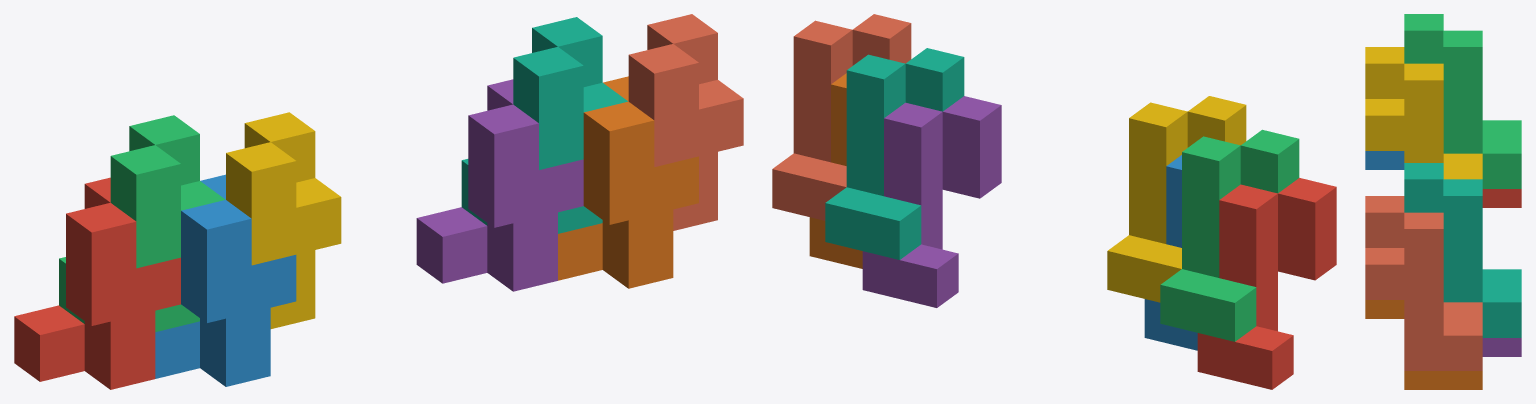
File: tiling.obj
3 renders of one model, left to right at view 1: azimuth 30°, elevation 25°; view 2: azimuth 150°, elevation 25°; view 3: azimuth 270°, elevation 25°, orthographic. The views are drawn at different scales.
Parts seen in each view (by area): view 1: copy_1_domain_5, copy_1_domain_1, copy_1_domain_6, copy_1_domain_2, copy_1_domain_4, copy_1_domain_8, copy_1_domain_7, copy_1_domain_3; view 2: copy_1_domain_5, copy_1_domain_1, copy_1_domain_7, copy_1_domain_3, copy_1_domain_8, copy_1_domain_4, copy_1_domain_6, copy_1_domain_2; view 3: copy_1_domain_8, copy_1_domain_3, copy_1_domain_7, copy_1_domain_4, copy_1_domain_6, copy_1_domain_1, copy_1_domain_2, copy_1_domain_5.
Part boxes in pixels (x1,y1,x2,y2): copy_1_domain_5: (416,79,583,291); copy_1_domain_1: (14,177,180,389); copy_1_domain_6: (558,76,698,288); copy_1_domain_2: (155,174,296,386); copy_1_domain_4: (226,112,341,328); copy_1_domain_8: (628,14,743,230); copy_1_domain_7: (461,17,627,233); copy_1_domain_3: (59,115,225,331); copy_1_domain_5: (862,96,1001,307); copy_1_domain_1: (1197,178,1336,389); copy_1_domain_7: (825,48,964,259); copy_1_domain_3: (1160,129,1299,341); copy_1_domain_8: (772,14,911,220); copy_1_domain_4: (1107,96,1246,302); copy_1_domain_6: (809,73,862,268); copy_1_domain_2: (1144,155,1197,350); copy_1_domain_8: (1365,196,1482,370); copy_1_domain_3: (1404,14,1521,188); copy_1_domain_7: (1404,163,1521,337); copy_1_domain_4: (1365,47,1482,179); copy_1_domain_6: (1365,300,1482,389); copy_1_domain_1: (1482,189,1521,207); copy_1_domain_2: (1365,151,1404,169); copy_1_domain_5: (1482,338,1521,356).
Size of the model in its own units: 14 by 5 by 4.
